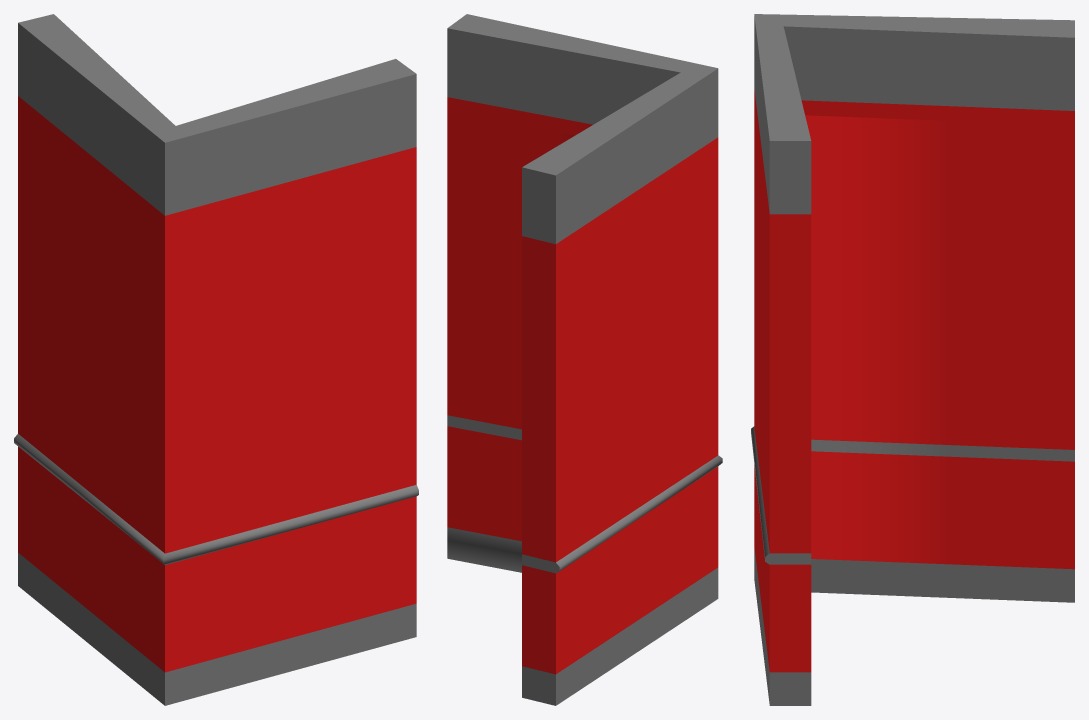
Rendered from Wall2_Middel_Cornor.fbx.
The picture shows the model from 3 angles, left to right: view 1: azimuth 30°, elevation 25°; view 2: azimuth 150°, elevation 25°; view 3: azimuth 270°, elevation 25°; orthographic projection. The views are drawn at different scales.
Parts seen in each view (by area): view 1: Wall003_Mid_Cornor; view 2: Wall003_Mid_Cornor; view 3: Wall003_Mid_Cornor.
Part boxes in pixels (x1=…): Wall003_Mid_Cornor: x1=14, y1=14, x2=418, y2=705; Wall003_Mid_Cornor: x1=447, y1=14, x2=722, y2=705; Wall003_Mid_Cornor: x1=751, y1=14, x2=1074, y2=705.
Bounding box in the file's own units: 57.54 × 118 × 61.38.
